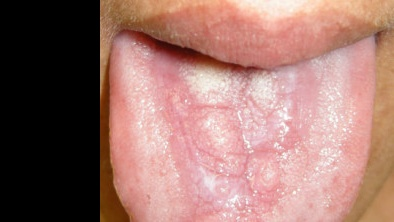SJS-TEN: (161, 52, 308, 220)
